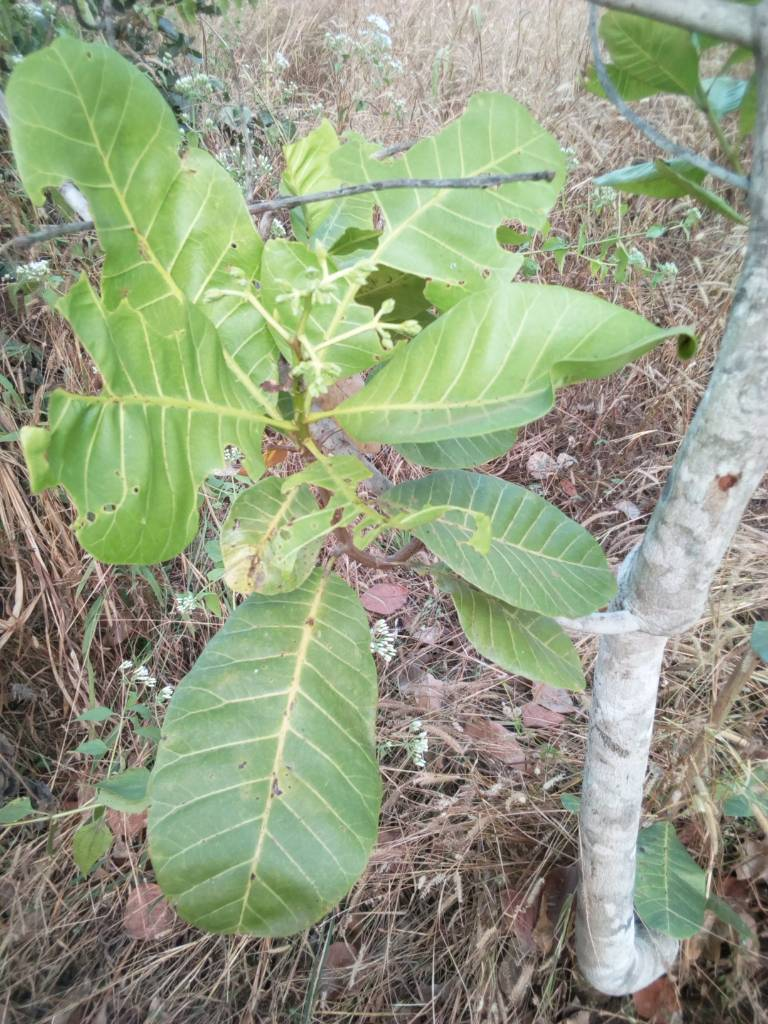Anoplonemis curvipes: (299, 99, 565, 355), (47, 280, 232, 566)
